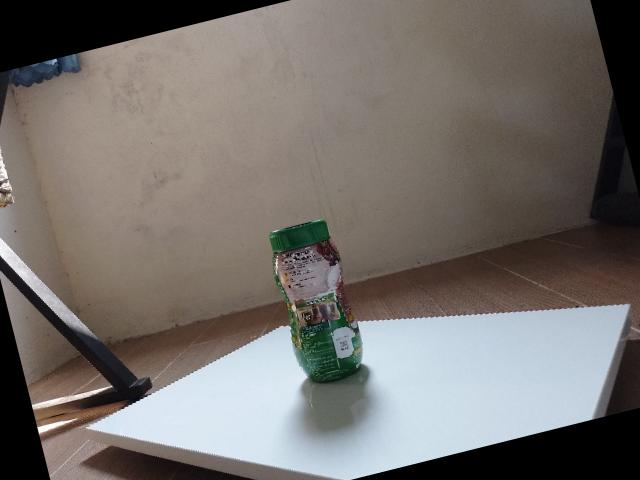milo: (268, 219, 363, 384)
